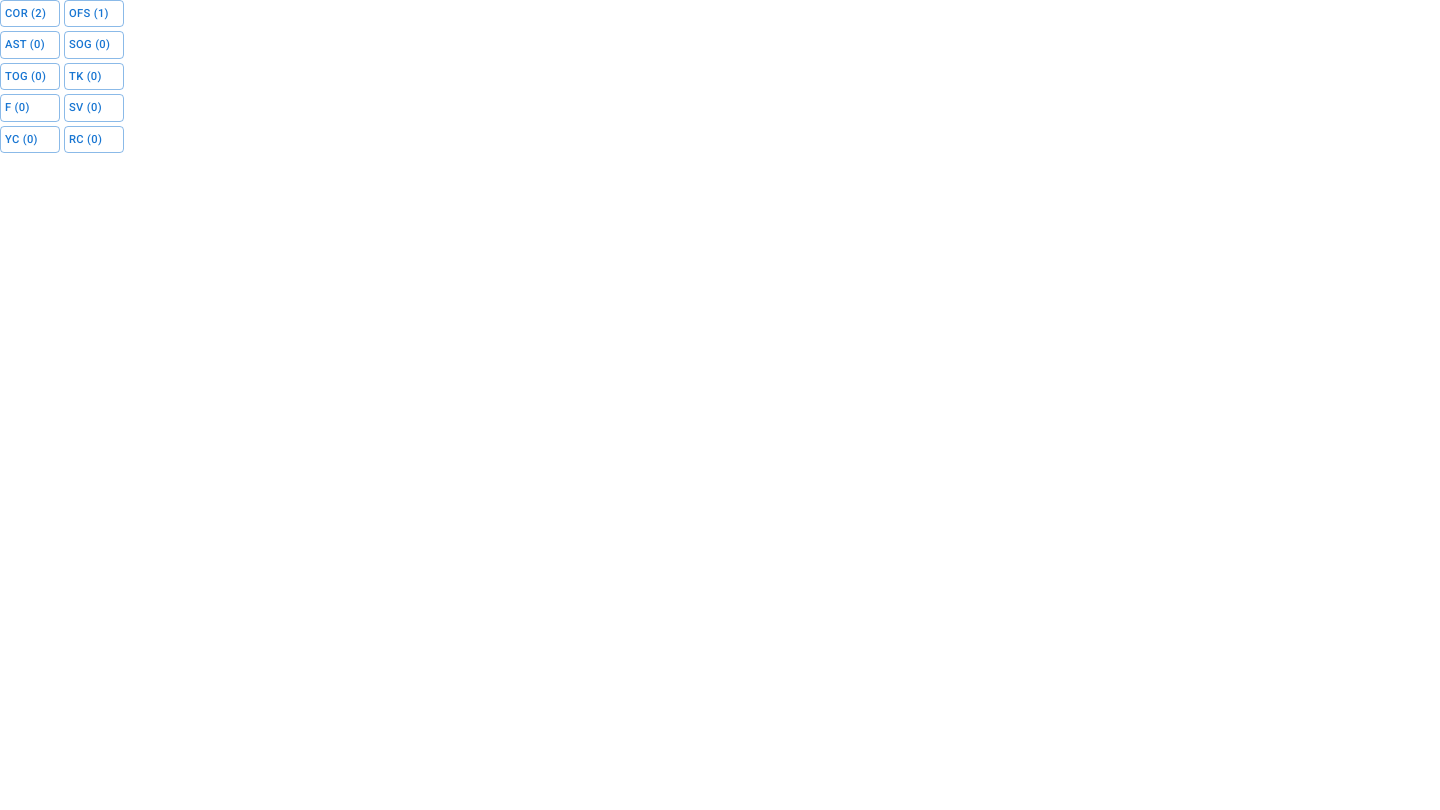
Test: TeamStatGrid › AST activity includes both attributed (team_assists) and unattributed team-stat entries
The image size is (1440, 810).
Press the mouse on the button "AST (0)" at (30, 45), box [0,31,60,59]
Wait 500 ms
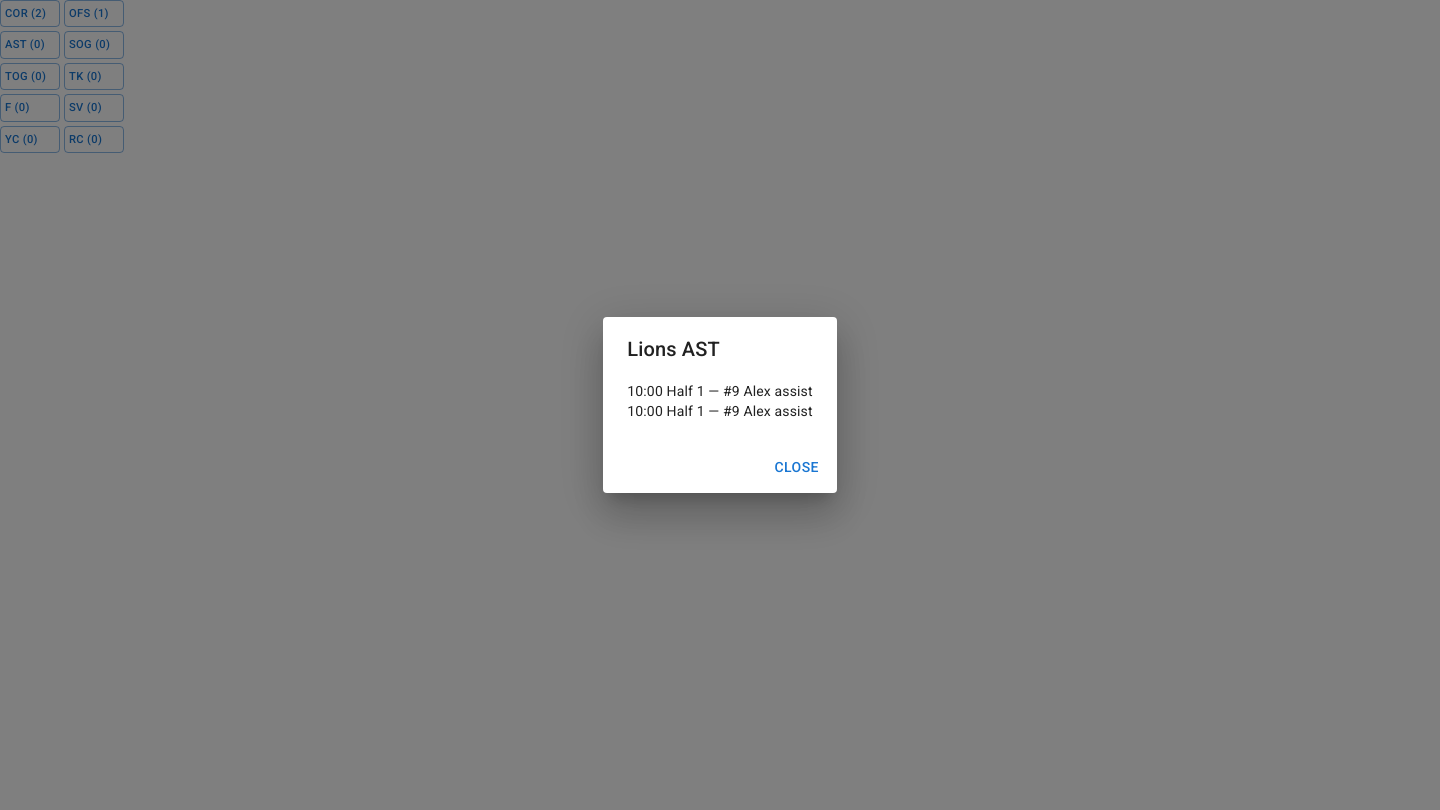
Expected: the text "10:00 Half 1 — #9 Alex assist" is shown 2 times, [627,381,813,401]; [627,401,813,421]
